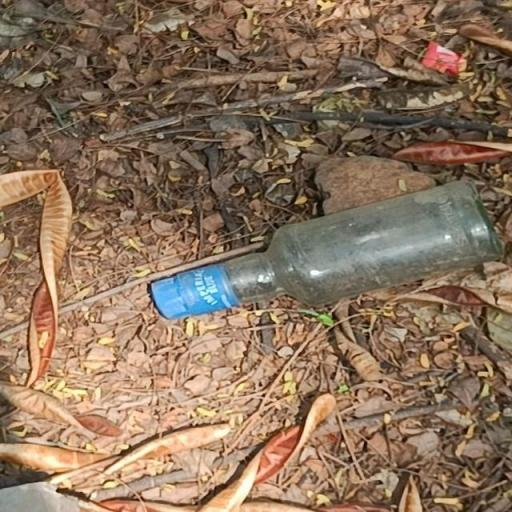glass: (138, 162, 507, 347)
